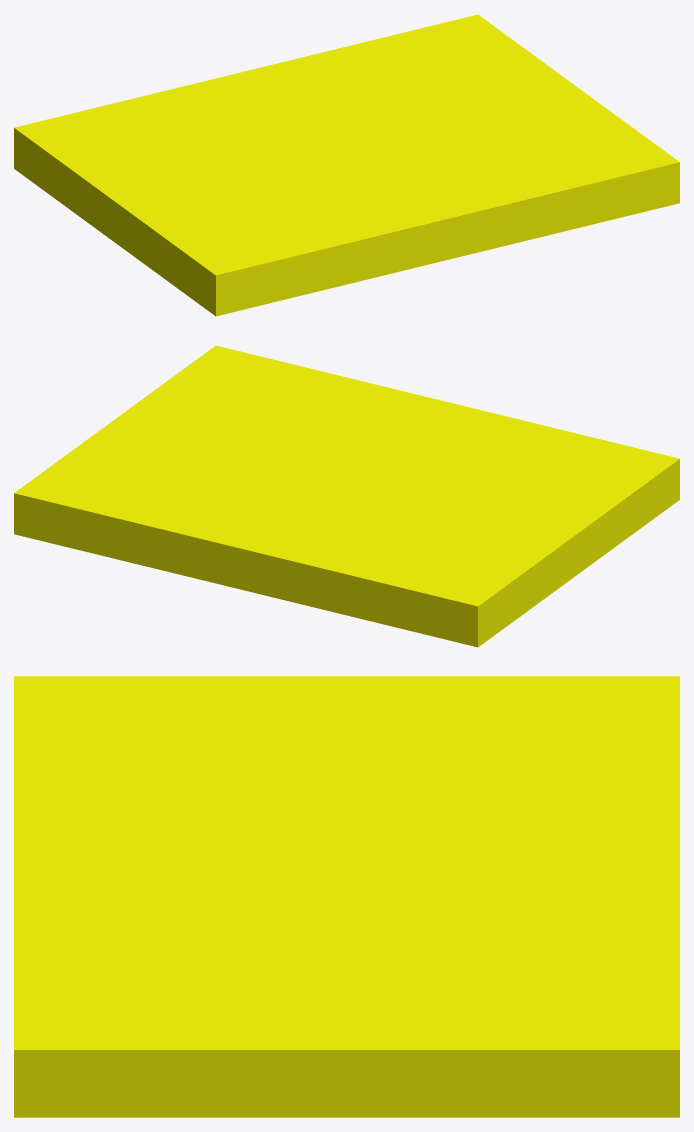
Rendered from journalexcerpt.fbx.
3 renders of one model, top to bottom at view 1: azimuth 30°, elevation 25°; view 2: azimuth 150°, elevation 25°; view 3: azimuth 270°, elevation 25°, orthographic. The views are drawn at different scales.
Visible parts, largest first — view 1: Cube; view 2: Cube; view 3: Cube.
Boxes of the visible parts, x1,y1,x2,y2 form: Cube: (14,14,679,316); Cube: (14,345,679,647); Cube: (14,676,679,1117).
Bounding box in the file's own units: 563 × 47.52 × 424.
